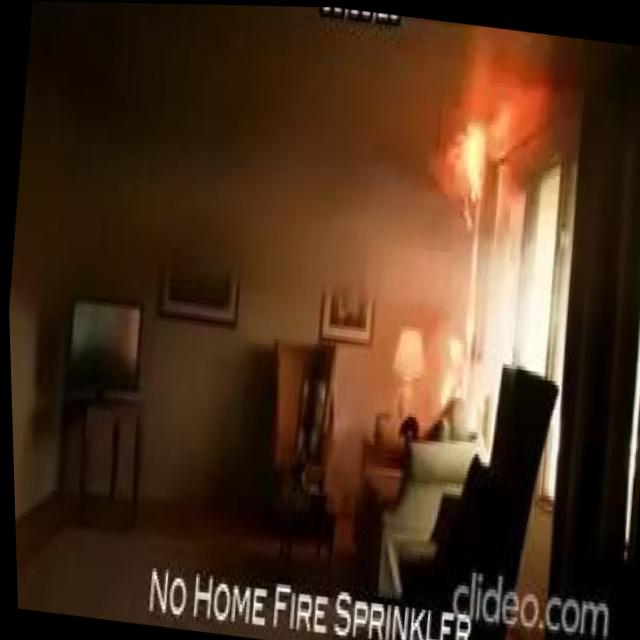fire: (435, 95, 508, 213)
